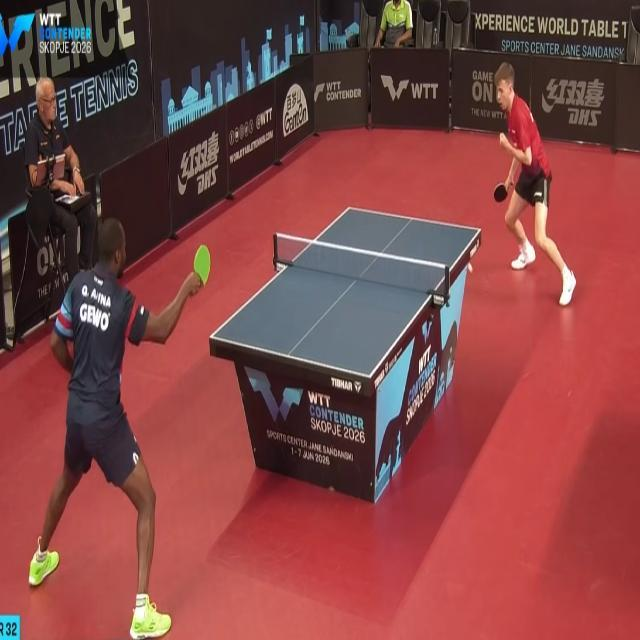TT Net: (271, 231, 450, 299)
TT Racket: (185, 239, 214, 290), (487, 179, 511, 206)
TT Table: (209, 206, 481, 379)
